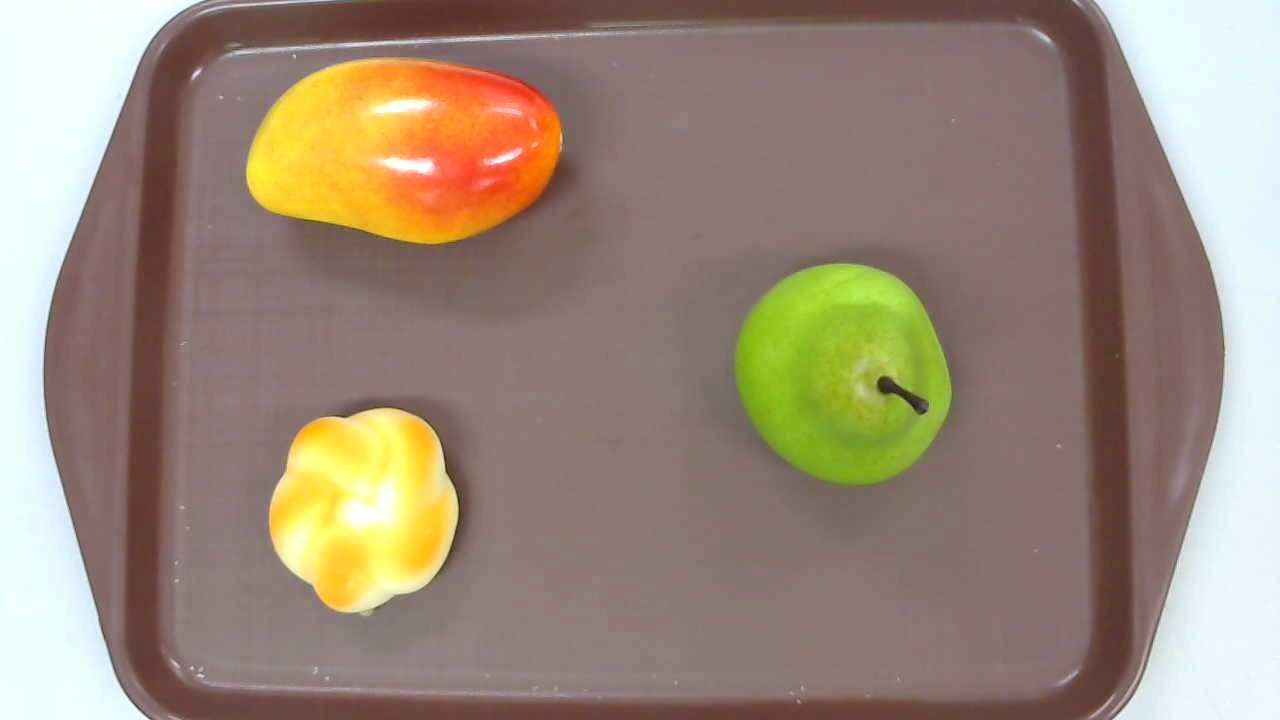green pear: (732, 262, 952, 485)
red mango: (246, 56, 564, 246)
twist bread: (268, 407, 459, 616)
